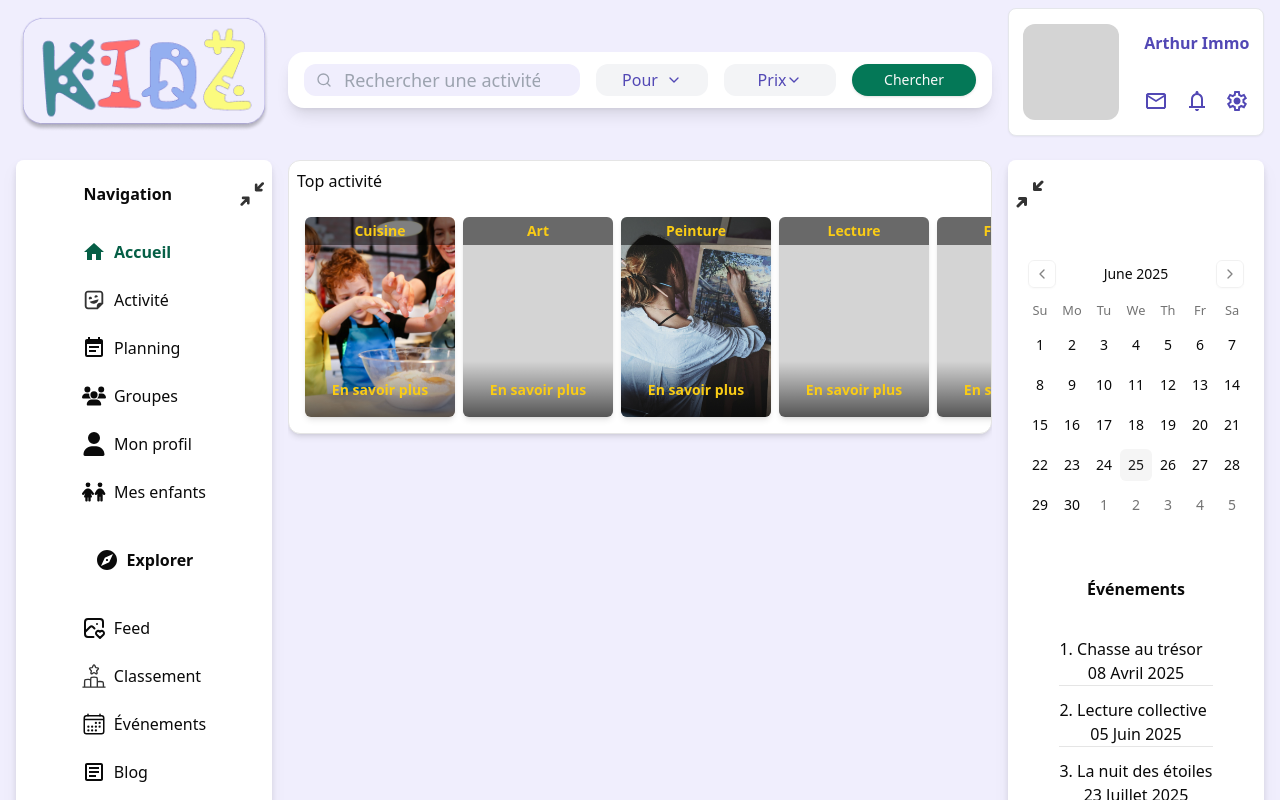
Test: SearchBar Component › Filtres - Prix › ouvre et ferme le dropdown des prix
This screenshot has width=1280, height=800.
Click the button "Prix": click(780, 80) [724,64,836,96]
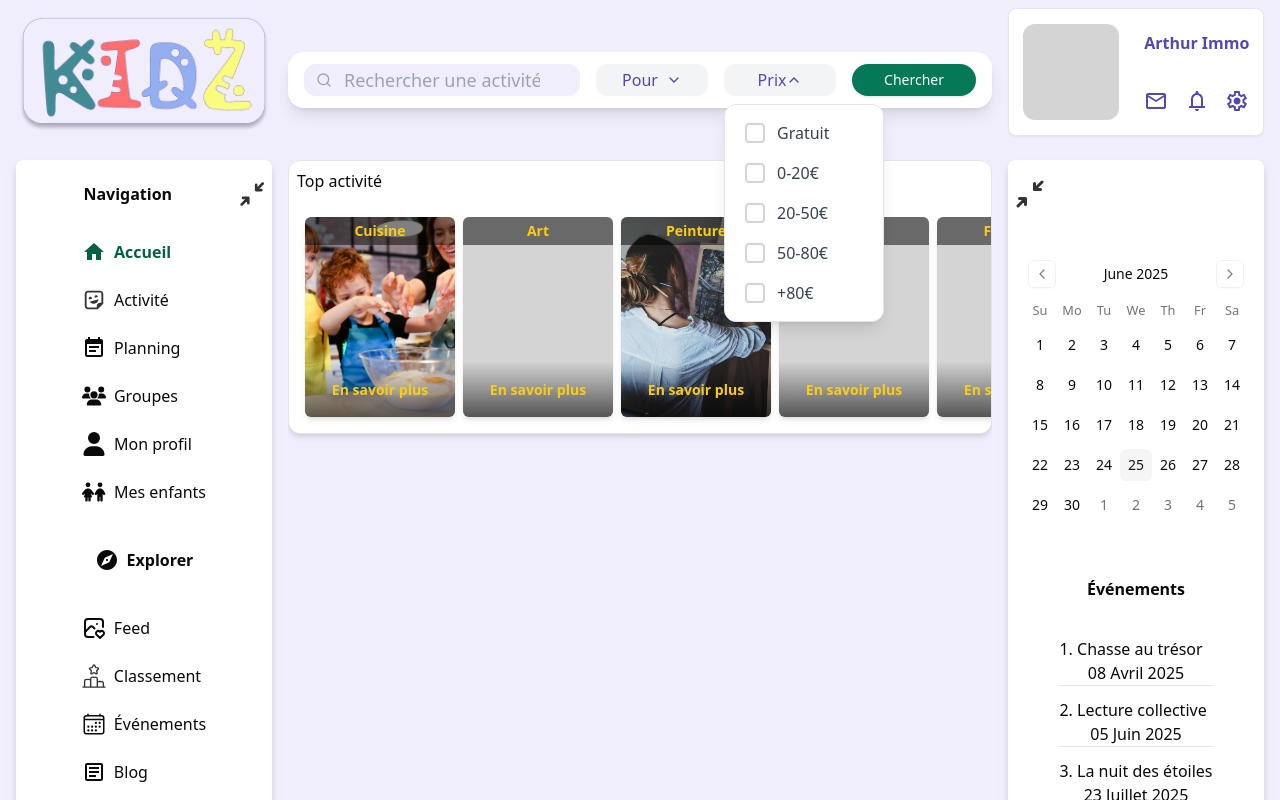
Check: the element with test id "price-dropdown" is shown, box [724,104,884,322]
# Fermer en cliquant ailleurs
Click the element that starts with "Pour": click(0, 0) [0,0,1279,799]
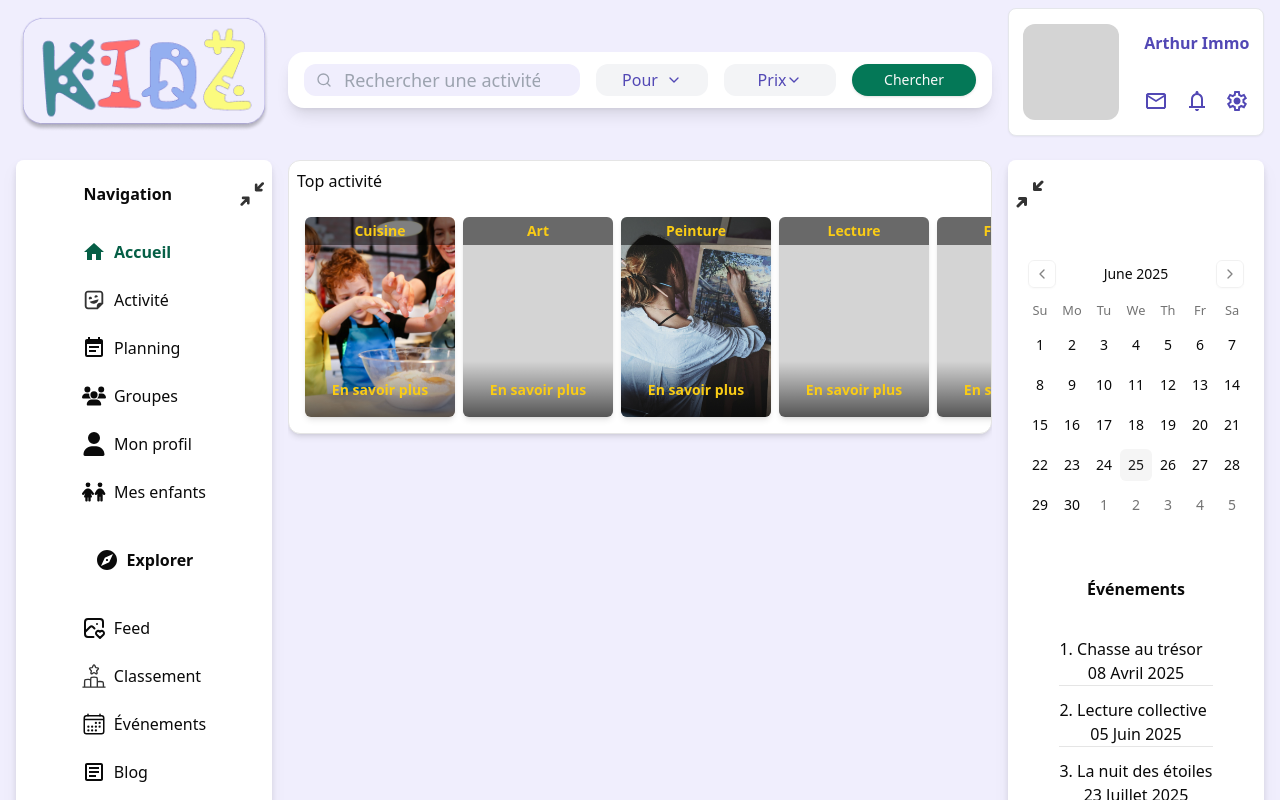
Check: the element with test id "price-dropdown" is gone
